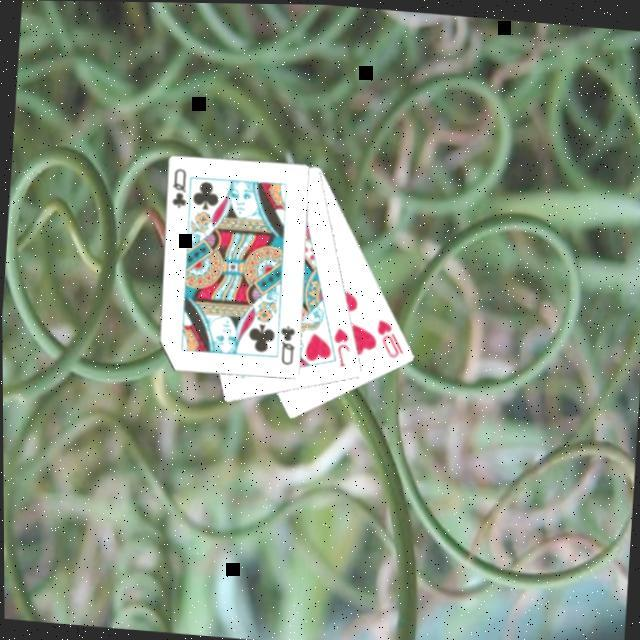10H: (373, 316, 410, 362)
JH: (330, 326, 356, 370)
QC: (276, 322, 300, 369), (169, 166, 193, 213)
